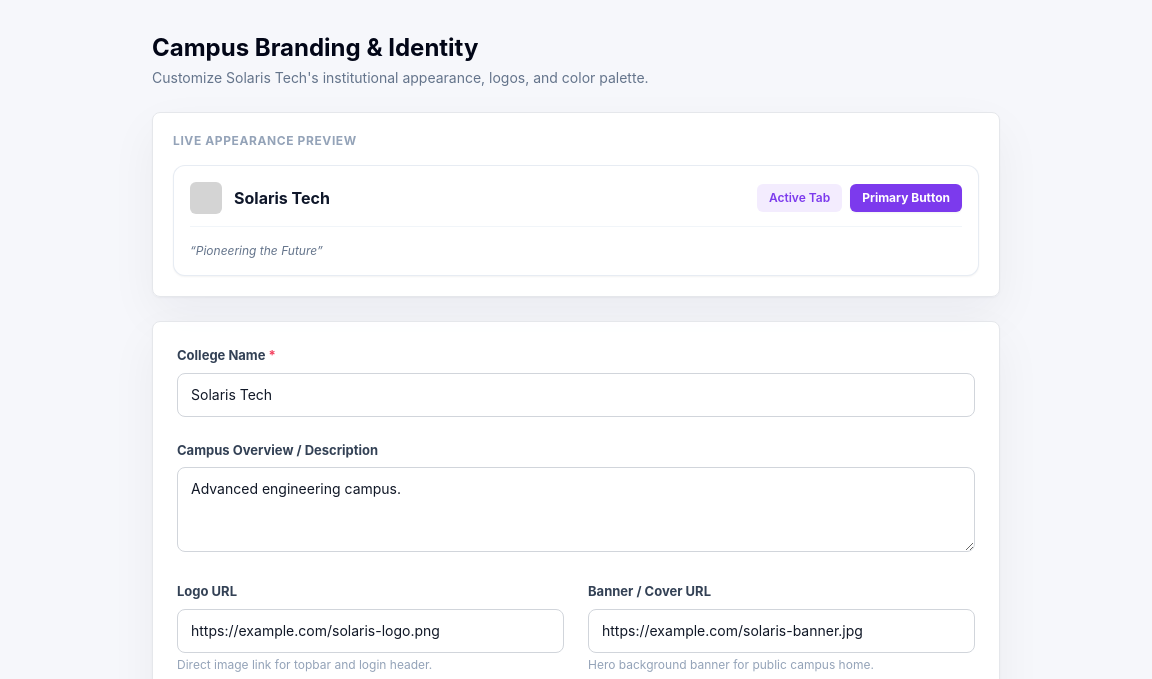
College Branding Verification & Customization Suite › 7. CollegeAdminBranding loads existing values and saves modifications via authorized API
This screenshot has width=1152, height=679.
# Update college name
Step 1. Replace the text in the field labelled "College Name *" with "Solaris Institute of Technology" → point(576, 395), box x1=177 y1=372 x2=975 y2=417
(page scrolled)
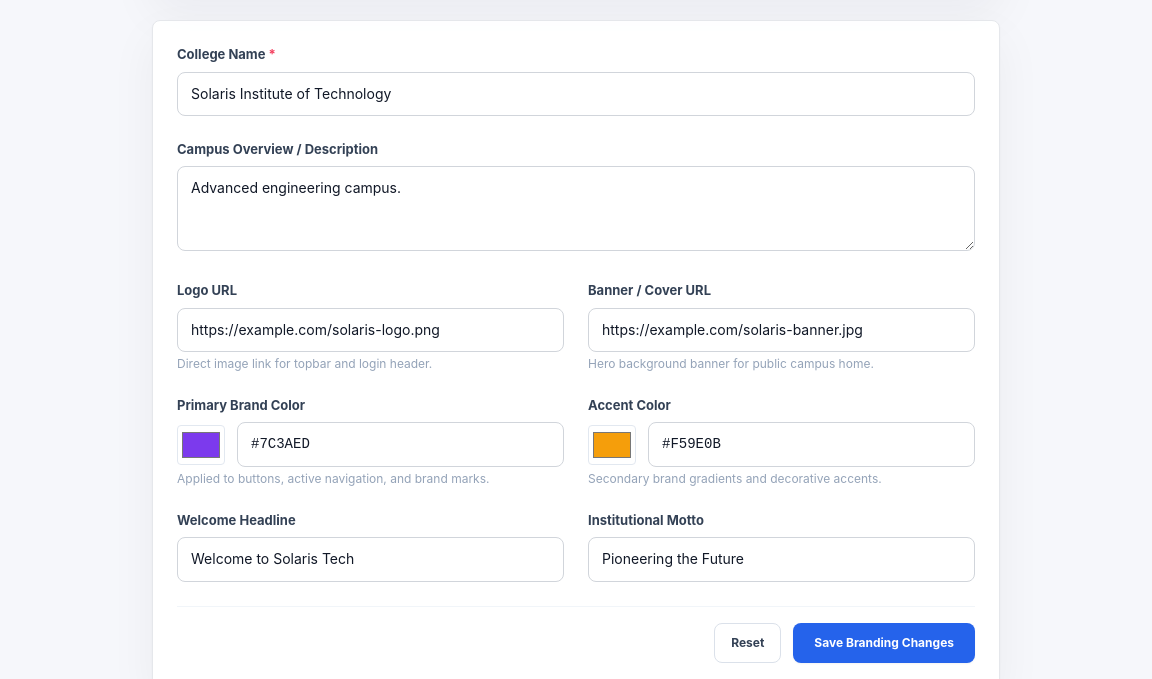
# Submit form
Step 2. Click the button "Save Branding Changes" → point(884, 643), box x1=793 y1=623 x2=975 y2=663
(page scrolled)
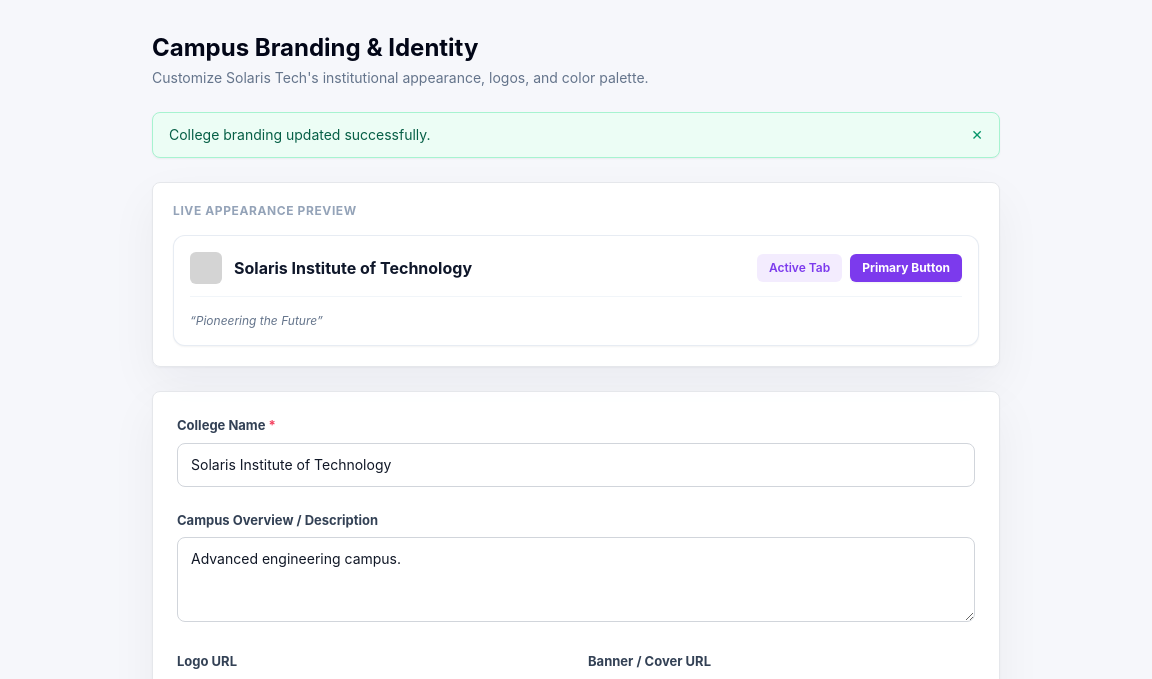
Now the text "College branding updated successfully." is shown, box x1=169 y1=125 x2=431 y2=145
